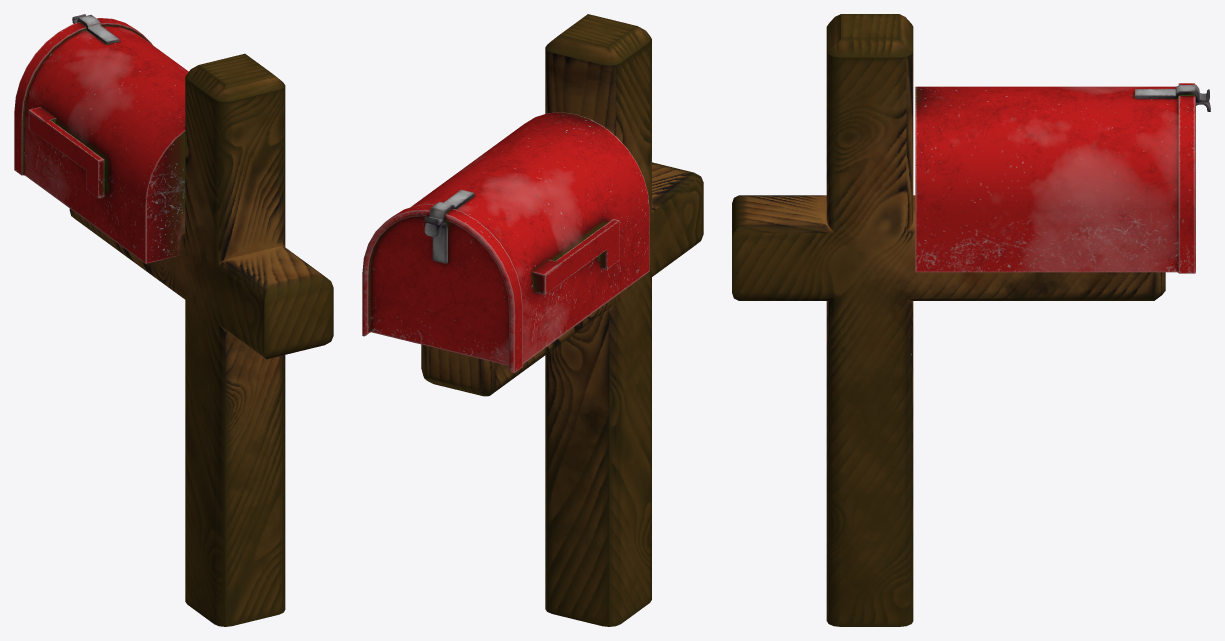
Rendered from MailBox.fbx.
3 views of the same model, side by side, from view 1: azimuth 30°, elevation 25°; view 2: azimuth 150°, elevation 25°; view 3: azimuth 270°, elevation 25° (orthographic). The views are drawn at different scales.
Visible parts, largest first — view 1: MailBox; view 2: MailBox; view 3: MailBox.
Part boxes in pixels (bbox=[...]): MailBox: bbox=[14, 14, 333, 626]; MailBox: bbox=[362, 14, 703, 626]; MailBox: bbox=[732, 14, 1210, 626].
Bounding box in the file's own units: 112 × 382 × 285.
1 material, 1 textured.
